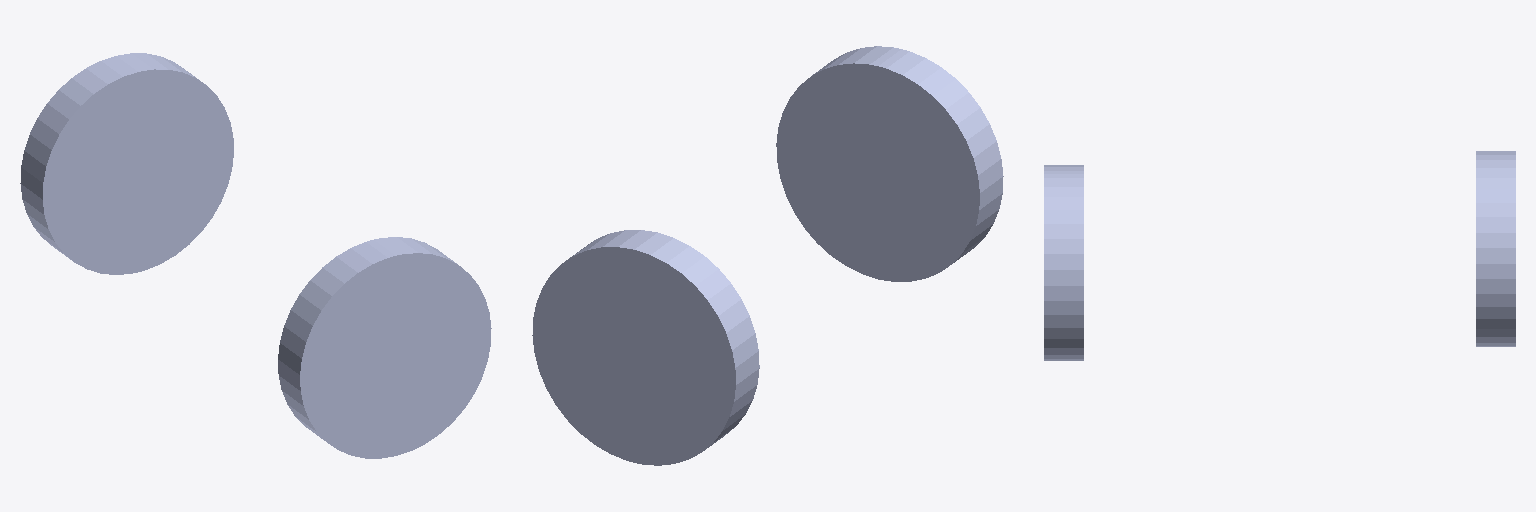
robot.urdf — simple_test_urdf:
<?xml version="1.0" encoding="utf-8"?>
<!-- This URDF was automatically created by SolidWorks to URDF Exporter! Originally created by [author] ([email redacted]) 
     Commit Version: 1.6.0-4-g7f85cfe  Build Version: 1.6.7995.38578
     For more information, please see http://wiki.ros.org/sw_urdf_exporter -->
<robot
  name="simple_test_urdf">
  <link
    name="base_link">
    <inertial>
      <origin
        xyz="-0.0216033399438031 0.0079630228935863 0.00535491378030884"
        rpy="0 0 0" />
      <mass
        value="0.00251327412287184" />
      <inertia
        ixx="6.6182885235625E-08"
        ixy="2.5067597473817E-40"
        ixz="8.53365159179446E-24"
        iyy="6.6182885235625E-08"
        iyz="1.76465197344646E-24"
        izz="1.25663706143592E-07" />
    </inertial>
    <visual>
      <origin
        xyz="0 0 0"
        rpy="0 0 0" />
      <geometry>
        <mesh
          filename="package://simple_test_urdf/meshes/base_link.STL" />
      </geometry>
      <material
        name="">
        <color
          rgba="0.792156862745098 0.819607843137255 0.933333333333333 1" />
      </material>
    </visual>
    <collision>
      <origin
        xyz="0 0 0"
        rpy="0 0 0" />
      <geometry>
        <mesh
          filename="package://simple_test_urdf/meshes/base_link.STL" />
      </geometry>
    </collision>
  </link>
  <link
    name="left_wheel_link">
    <inertial>
      <origin
        xyz="0 0.00199999999999999 0"
        rpy="0 0 0" />
      <mass
        value="0.00125663706143592" />
      <inertia
        ixx="3.30914426178125E-08"
        ixy="-4.26682579589723E-24"
        ixz="-9.73941807356457E-40"
        iyy="6.28318530717959E-08"
        iyz="-3.46189539670878E-24"
        izz="3.30914426178125E-08" />
    </inertial>
    <visual>
      <origin
        xyz="0 0 0"
        rpy="0 0 0" />
      <geometry>
        <mesh
          filename="package://simple_test_urdf/meshes/left_wheel_link.STL" />
      </geometry>
      <material
        name="">
        <color
          rgba="0.792156862745098 0.819607843137255 0.933333333333333 1" />
      </material>
    </visual>
    <collision>
      <origin
        xyz="0 0 0"
        rpy="0 0 0" />
      <geometry>
        <mesh
          filename="package://simple_test_urdf/meshes/left_wheel_link.STL" />
      </geometry>
    </collision>
  </link>
  <joint
    name="left_wheel_joint"
    type="continuous">
    <origin
      xyz="-0.020872 -0.029355 0.0075121"
      rpy="0 0 0" />
    <parent
      link="base_link" />
    <child
      link="left_wheel_link" />
    <axis
      xyz="0 0 0" />
  </joint>
  <link
    name="right_wheel_link">
    <inertial>
      <origin
        xyz="0 0.002 0"
        rpy="0 0 0" />
      <mass
        value="0.00125663706143592" />
      <inertia
        ixx="3.30914426178125E-08"
        ixy="4.26682579589723E-24"
        ixz="-1.59470592589694E-39"
        iyy="6.28318530717959E-08"
        iyz="-8.82325986723229E-25"
        izz="3.30914426178125E-08" />
    </inertial>
    <visual>
      <origin
        xyz="0 0 0"
        rpy="0 0 0" />
      <geometry>
        <mesh
          filename="package://simple_test_urdf/meshes/right_wheel_link.STL" />
      </geometry>
      <material
        name="">
        <color
          rgba="0.792156862745098 0.819607843137255 0.933333333333333 1" />
      </material>
    </visual>
    <collision>
      <origin
        xyz="0 0 0"
        rpy="0 0 0" />
      <geometry>
        <mesh
          filename="package://simple_test_urdf/meshes/right_wheel_link.STL" />
      </geometry>
    </collision>
  </link>
  <joint
    name="right_wheel_joint"
    type="continuous">
    <origin
      xyz="-0.022335 0.018645 0.008414"
      rpy="3.1416 0 0" />
    <parent
      link="base_link" />
    <child
      link="right_wheel_link" />
    <axis
      xyz="0 0 0" />
  </joint>
</robot>

--- What the picture shows (computed from the rendered views, not written in the file) ---
3 views of the same robot in one strip: view 1: azimuth 30°, elevation 25°; view 2: azimuth 150°, elevation 25°; view 3: azimuth 270°, elevation 25° (orthographic).
Model simple_test_urdf with 3 links and 2 joints (2 continuous), rooted at base_link, posed every joint at zero.
Visible links, largest first — view 1: left_wheel_link, right_wheel_link, base_link; view 2: base_link, left_wheel_link, right_wheel_link; view 3: base_link, right_wheel_link.
Link boxes in pixels (box(x1,y1,x2,y2)): left_wheel_link: box(278, 238, 491, 458); right_wheel_link: box(43, 53, 233, 274); base_link: box(20, 64, 489, 426); base_link: box(532, 46, 979, 465); left_wheel_link: box(870, 47, 1003, 262); right_wheel_link: box(566, 230, 683, 272); base_link: box(1044, 151, 1504, 360); right_wheel_link: box(1476, 151, 1515, 346).
Bounding box of the posed robot: 0.0214 × 0.048 × 0.0209 m (x, y, z).
3 mesh visuals loaded from 3 distinct referenced files (3 binary STL).